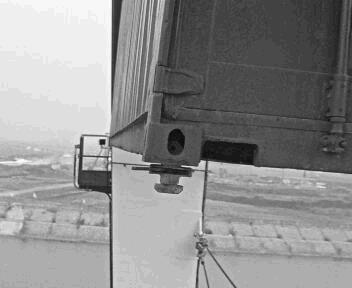twist_lock_1: (143, 160, 199, 202)
